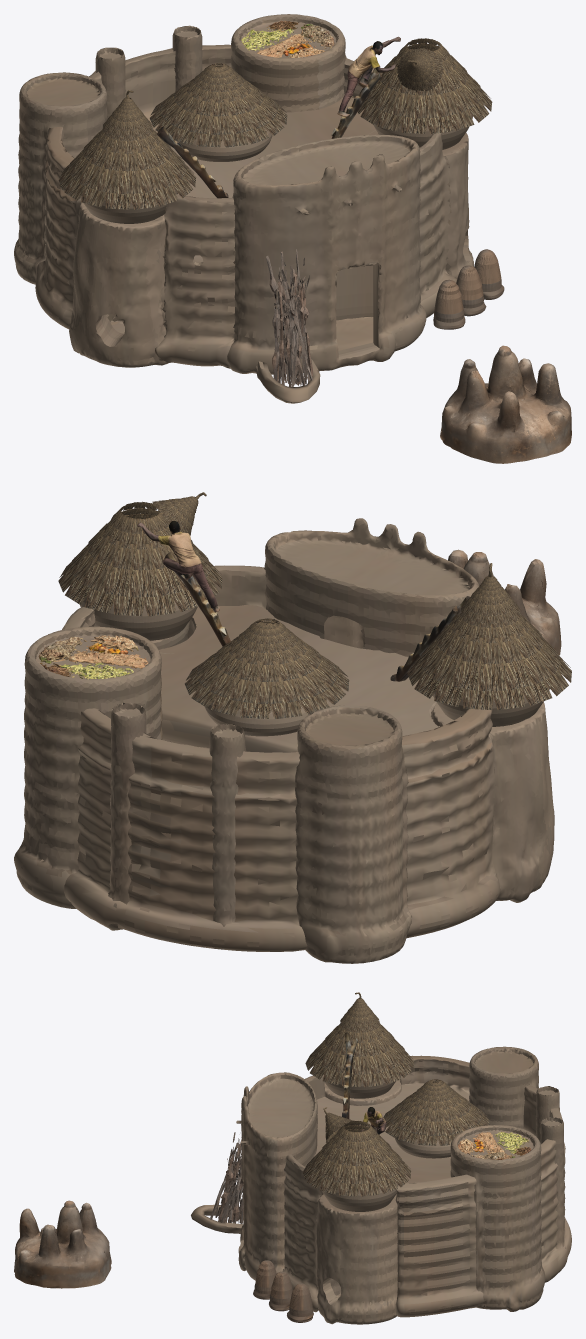
The model's file is La_Takienta.glb.
3 views of the same model, one above another, from view 1: azimuth 30°, elevation 25°; view 2: azimuth 150°, elevation 25°; view 3: azimuth 270°, elevation 25° (orthographic). The views are drawn at different scales.
Parts seen in each view (by area): view 1: FORTRESSES, ALTARS, THATCHED ROOF_2, Object_5.004, THATCHED ROOF_2.001, WOOD, objet, DRIED_VEGETABLES, THATCHED COVER_1, Mesh1.0, THATCHED COVER_2, Cylinder.009 (+4 smaller); view 2: FORTRESSES, THATCHED ROOF_2, Object_5.004, THATCHED ROOF_2.001, DRIED_VEGETABLES, ALTARS, ATTIC_1, Mesh1.0, THATCHED COVER_2, Cylinder.009, ATTIC_2, THATCHED COVER_1 (+2 smaller); view 3: FORTRESSES, ALTARS, THATCHED ROOF_2.001, THATCHED ROOF_2, Object_5.004, objet, WOOD, DRIED_VEGETABLES, ATTIC_1, THATCHED COVER_2, Cylinder.009, ATTIC_2 (+2 smaller).
Part boxes in pixels (x1,y1,x2,y2): FORTRESSES: (14, 14, 473, 403); ALTARS: (440, 345, 571, 463); THATCHED ROOF_2: (58, 127, 196, 209); Object_5.004: (149, 63, 287, 147); THATCHED ROOF_2.001: (358, 38, 492, 134); WOOD: (266, 249, 312, 386); objet: (433, 249, 504, 329); DRIED_VEGETABLES: (241, 20, 334, 57); THATCHED COVER_1: (397, 48, 442, 92); Mesh1.0: (337, 36, 400, 116); THATCHED COVER_2: (103, 90, 152, 137); Cylinder.009: (171, 101, 272, 161); FORTRESSES: (14, 518, 554, 963); THATCHED ROOF_2: (407, 611, 571, 709); Object_5.004: (184, 618, 349, 719); THATCHED ROOF_2.001: (58, 501, 222, 616); DRIED_VEGETABLES: (38, 635, 148, 679); ALTARS: (448, 549, 561, 655); ATTIC_1: (80, 596, 197, 640); Mesh1.0: (137, 521, 219, 612); THATCHED COVER_2: (461, 563, 520, 623); Cylinder.009: (205, 698, 326, 736); ATTIC_2: (433, 687, 549, 726); THATCHED COVER_1: (152, 492, 206, 535); FORTRESSES: (191, 1046, 571, 1324); ALTARS: (14, 1200, 111, 1288); THATCHED ROOF_2.001: (302, 1121, 411, 1196); THATCHED ROOF_2: (305, 1022, 414, 1087); Object_5.004: (383, 1079, 489, 1145); objet: (253, 1260, 313, 1322); WOOD: (210, 1132, 243, 1224); DRIED_VEGETABLES: (458, 1131, 531, 1159); ATTIC_1: (320, 1181, 397, 1211); THATCHED COVER_2: (340, 992, 379, 1029); Cylinder.009: (395, 1134, 450, 1158); ATTIC_2: (324, 1072, 399, 1098).
Bounding box in the file's own units: 4.9 × 2.99 × 7.23.
6 materials, 6 textured.
